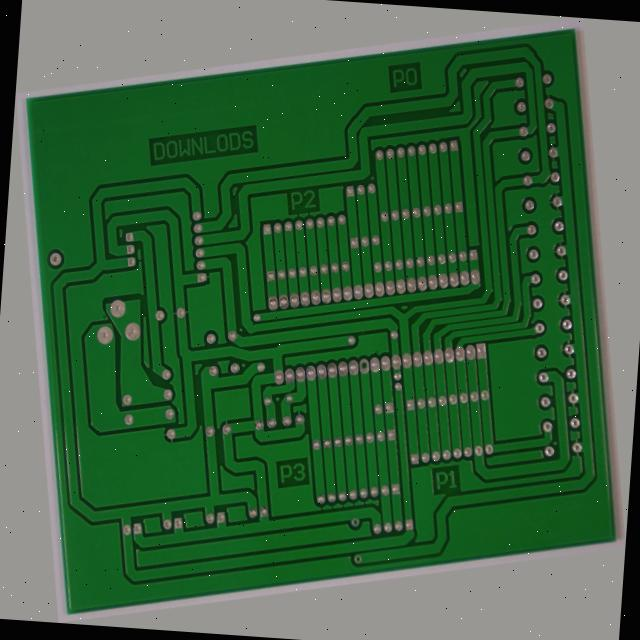missing_hole: (352, 375, 368, 397), (316, 561, 332, 577), (313, 605, 327, 620)
